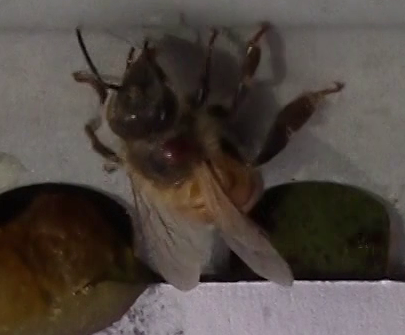Varroa destructor: (156, 134, 198, 168)
